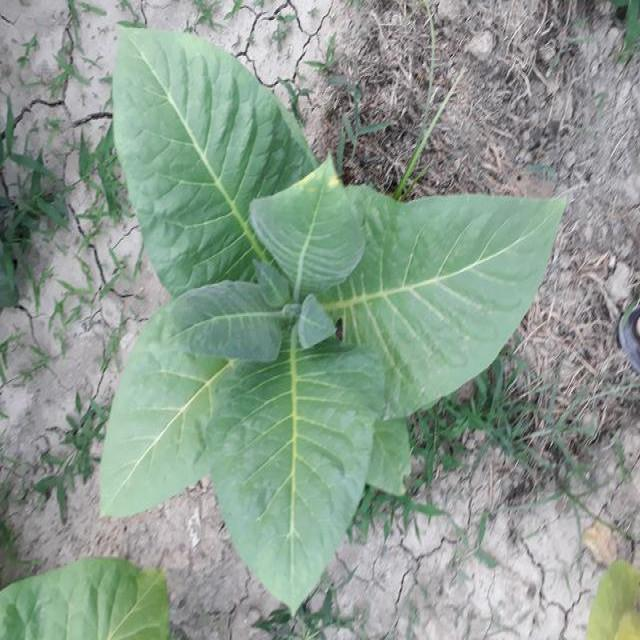crop: (101, 32, 554, 587), (10, 565, 174, 640), (574, 569, 639, 640)
